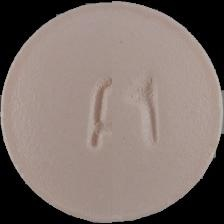16714-682: (0, 0, 224, 224)
